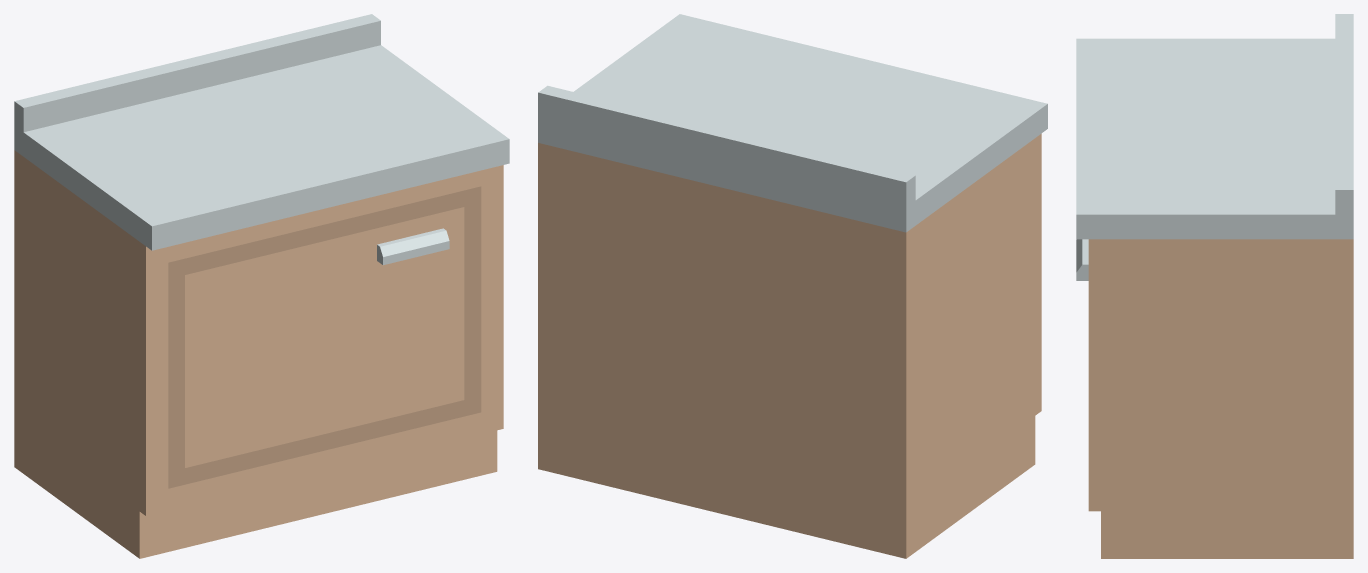
File: kitchen_counter.glb
3 renders of one model, left to right at view 1: azimuth 30°, elevation 25°; view 2: azimuth 150°, elevation 25°; view 3: azimuth 270°, elevation 25°, orthographic. The views are drawn at different scales.
Parts seen in each view (by area): view 1: kitchenCabinet(Clone)_c33dbc, kitchenCabinet(Clone)_67bf2b, door_cda451, door_c0d1d0, door_bc6640; view 2: kitchenCabinet(Clone)_c33dbc, kitchenCabinet(Clone)_67bf2b; view 3: kitchenCabinet(Clone)_c33dbc, kitchenCabinet(Clone)_67bf2b, door_bc6640.
Part boxes in pixels (box(x1,y1,x2,y2)): kitchenCabinet(Clone)_c33dbc: box(14, 150, 503, 558); kitchenCabinet(Clone)_67bf2b: box(14, 14, 509, 250); door_cda451: box(185, 207, 464, 467); door_c0d1d0: box(168, 186, 481, 488); door_bc6640: box(377, 228, 449, 265); kitchenCabinet(Clone)_c33dbc: box(538, 133, 1041, 558); kitchenCabinet(Clone)_67bf2b: box(538, 14, 1047, 232); kitchenCabinet(Clone)_c33dbc: box(1088, 239, 1353, 558); kitchenCabinet(Clone)_67bf2b: box(1076, 14, 1353, 239); door_bc6640: box(1076, 239, 1088, 280).
Size of the model in its own units: 0.9 by 0.88 by 0.6.
